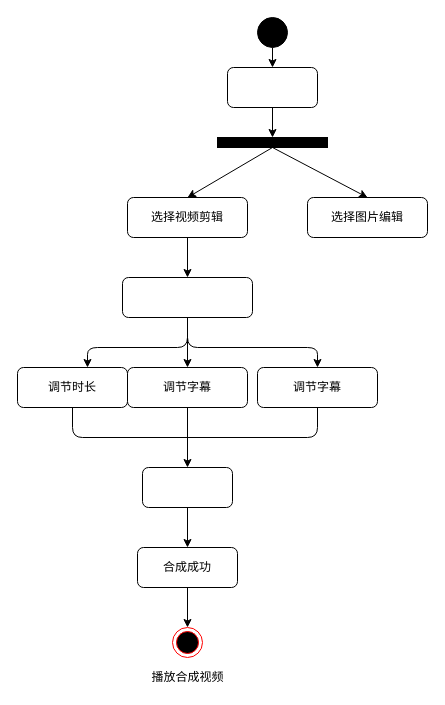
The diagram is 445 pixels wide and 705 high, and some of its shapes have lost their labels. Each missing label, with the centre of its shape:
上传视频音频字幕文件: pixel 187 297
主页面: pixel 272 87
开始合成: pixel 187 487
